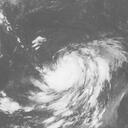cyclone: (29, 44, 111, 115)
